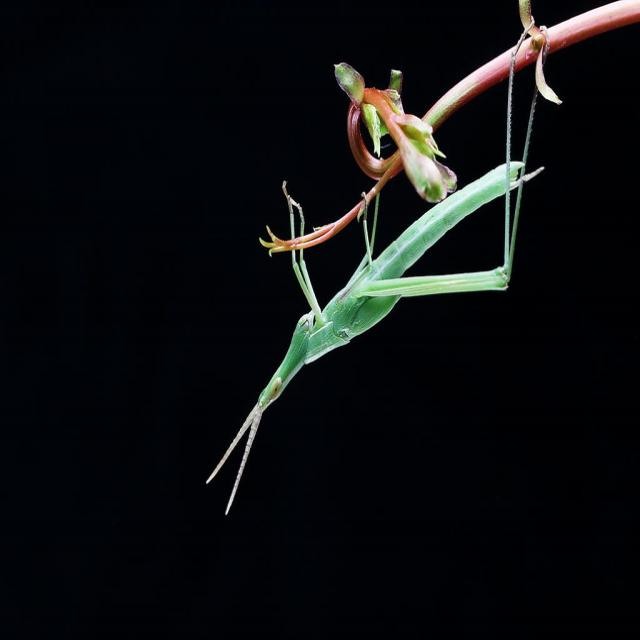ZhaMeng: (162, 101, 540, 516)
